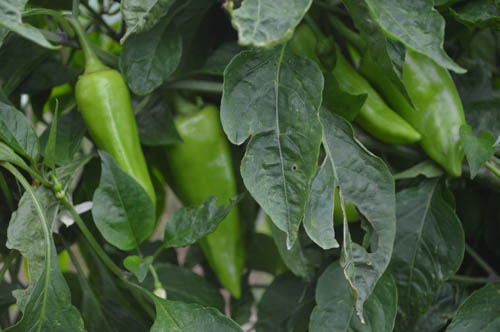ChiliPepper: (171, 105, 247, 301), (294, 31, 419, 142), (371, 36, 468, 176), (73, 71, 153, 213)
